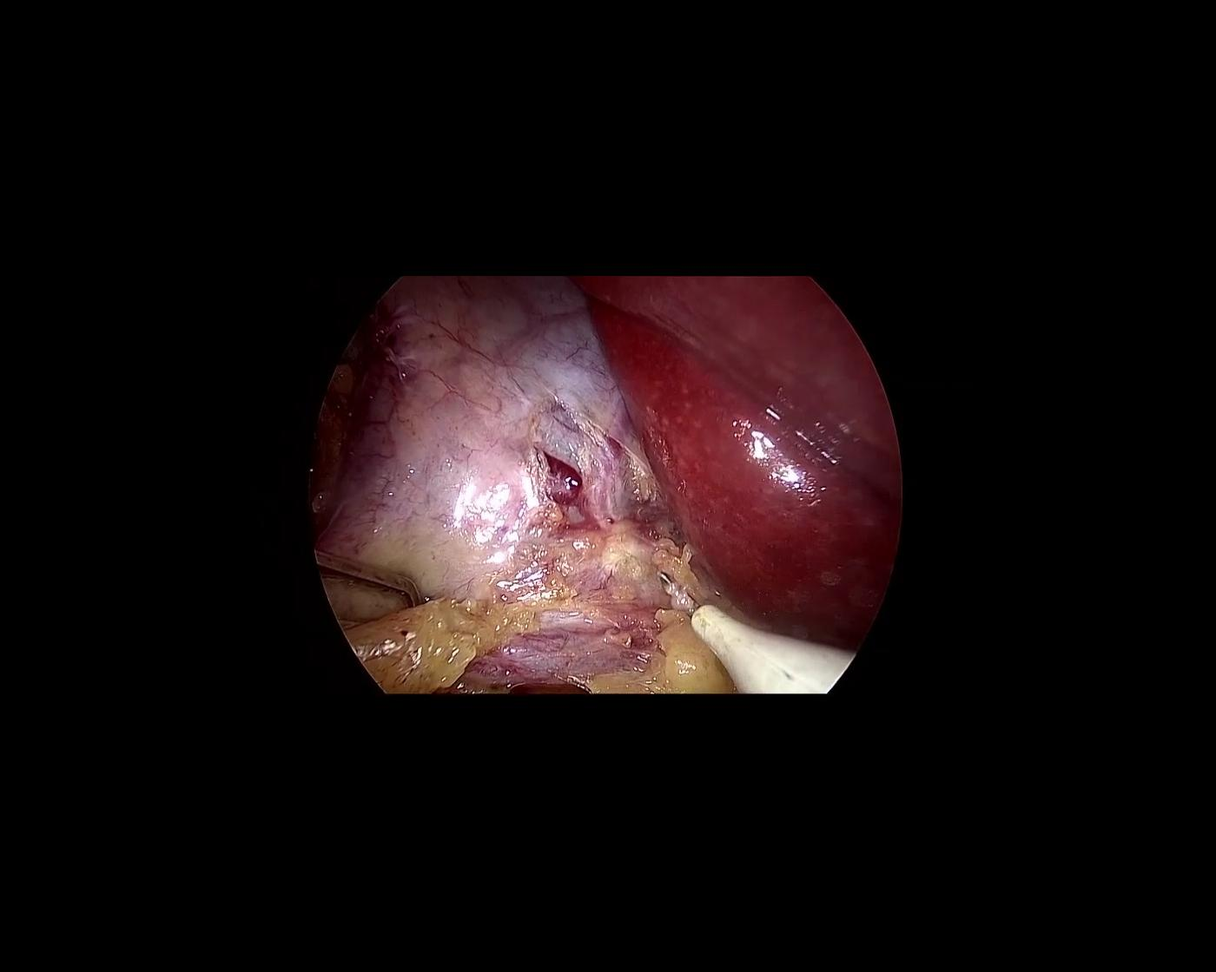Cautery: (629, 571, 852, 724)
Forceps: (304, 516, 426, 639)
Gallbladder: (311, 274, 679, 699)
Liver: (576, 217, 938, 692)
